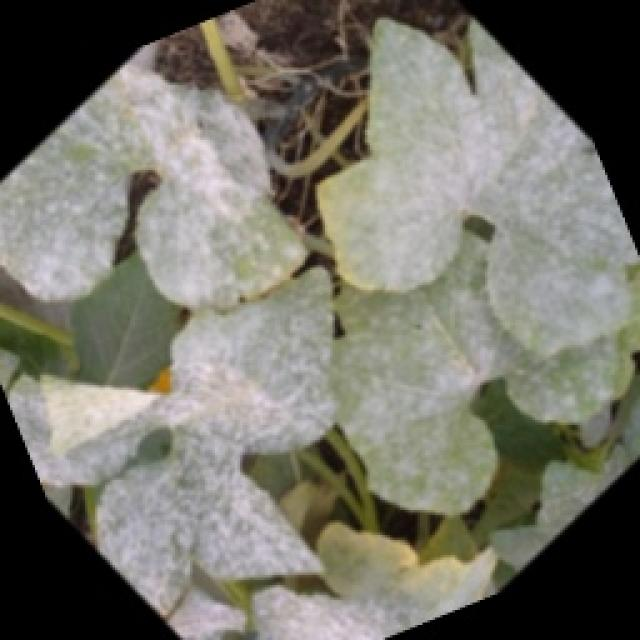Powdery Mildew: (0, 10, 638, 638)
